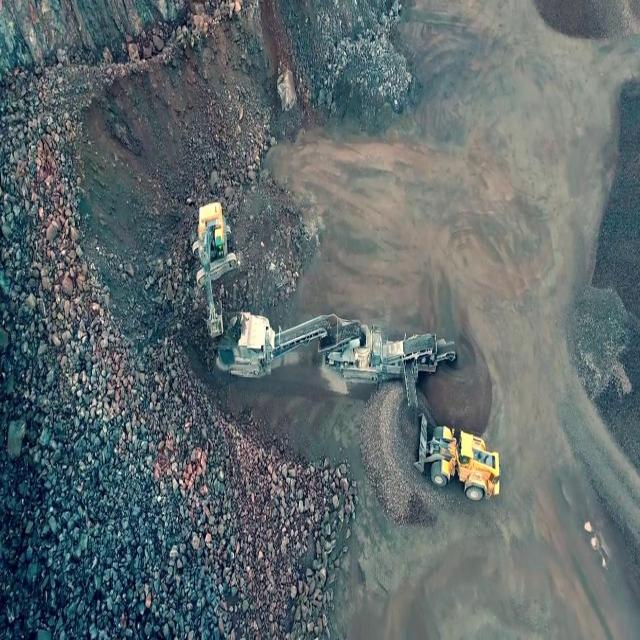Excavator: (190, 200, 238, 340)
Loader: (414, 411, 502, 504)
